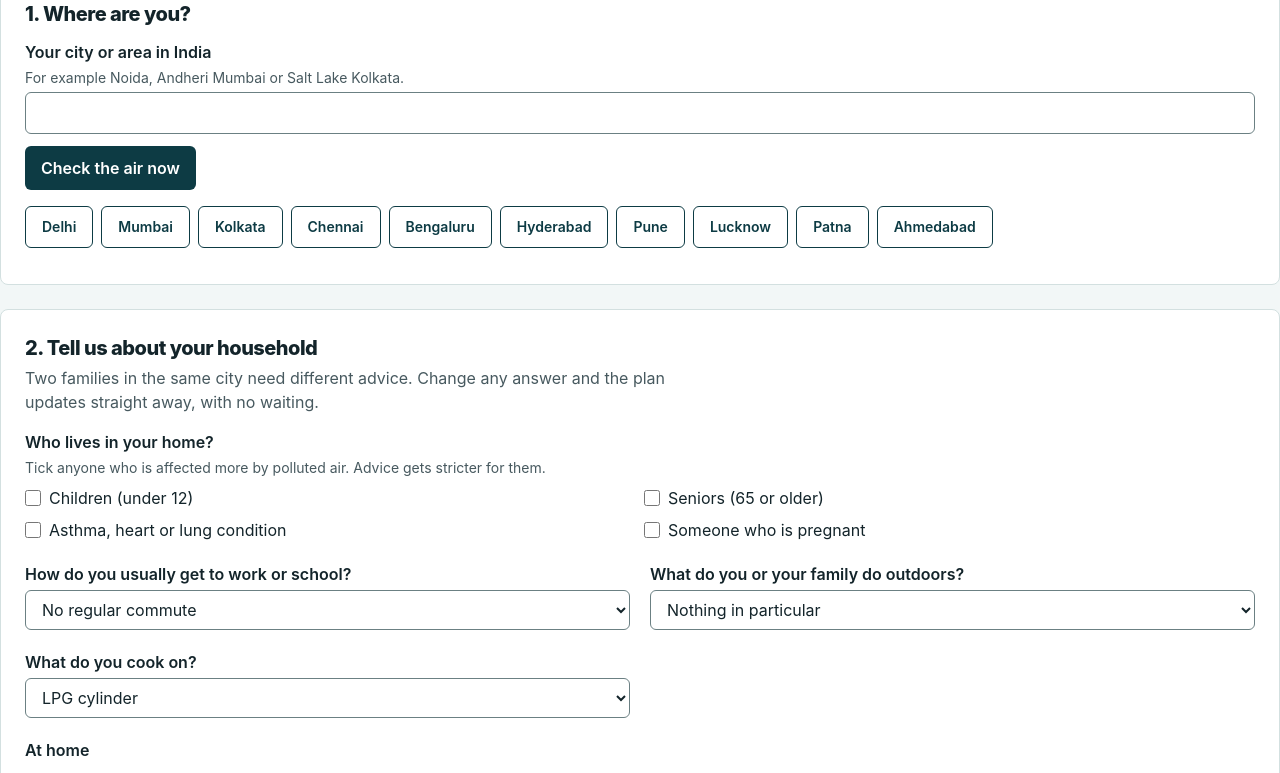
Scenario: checking the air › reads the live air for a quick-choice city and shows the source and time
Step 1. Click the button "Delhi" → {"x": 59, "y": 227}, box [25,206,93,248]
(page scrolled)
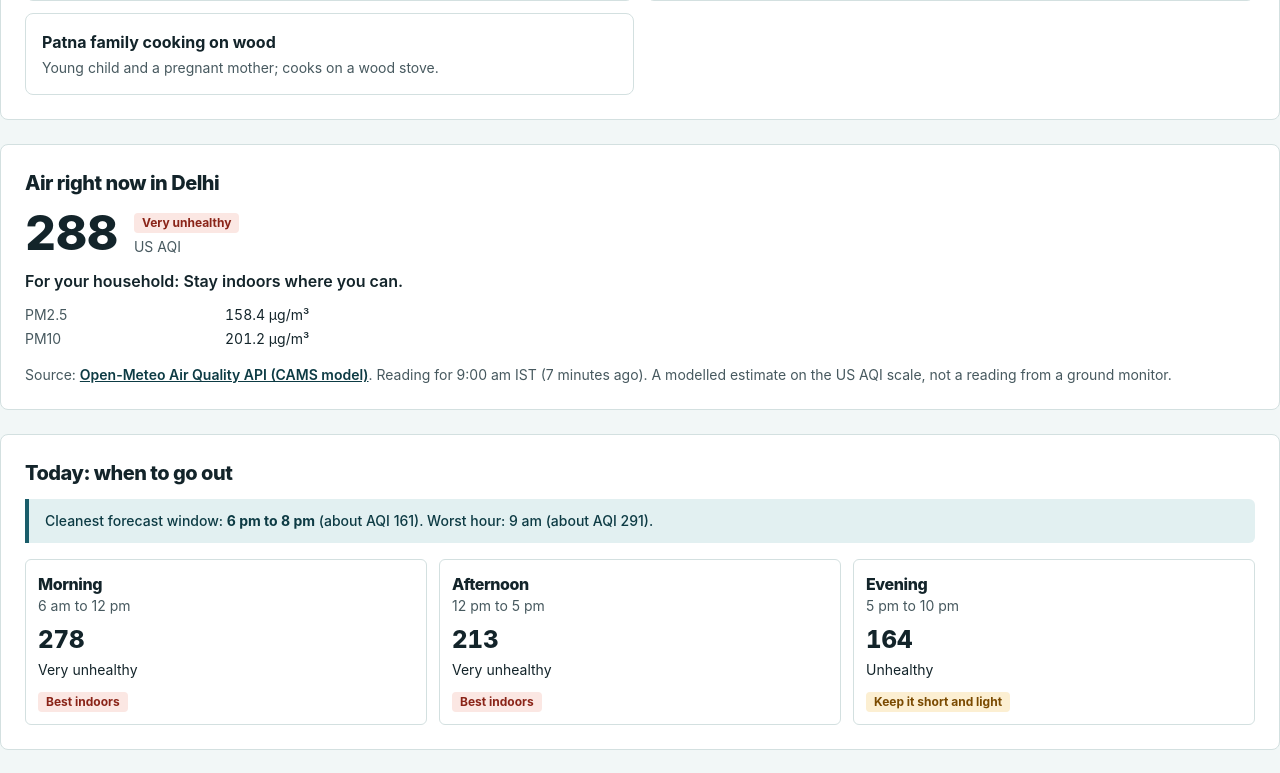
Expected: the heading "Air right now in Delhi" is shown, [25,171,219,195]
Expected: the text "288" is shown, [25,209,118,257]
Expected: the text "Very unhealthy" below "Air right now in" is shown, [142,215,232,230]
